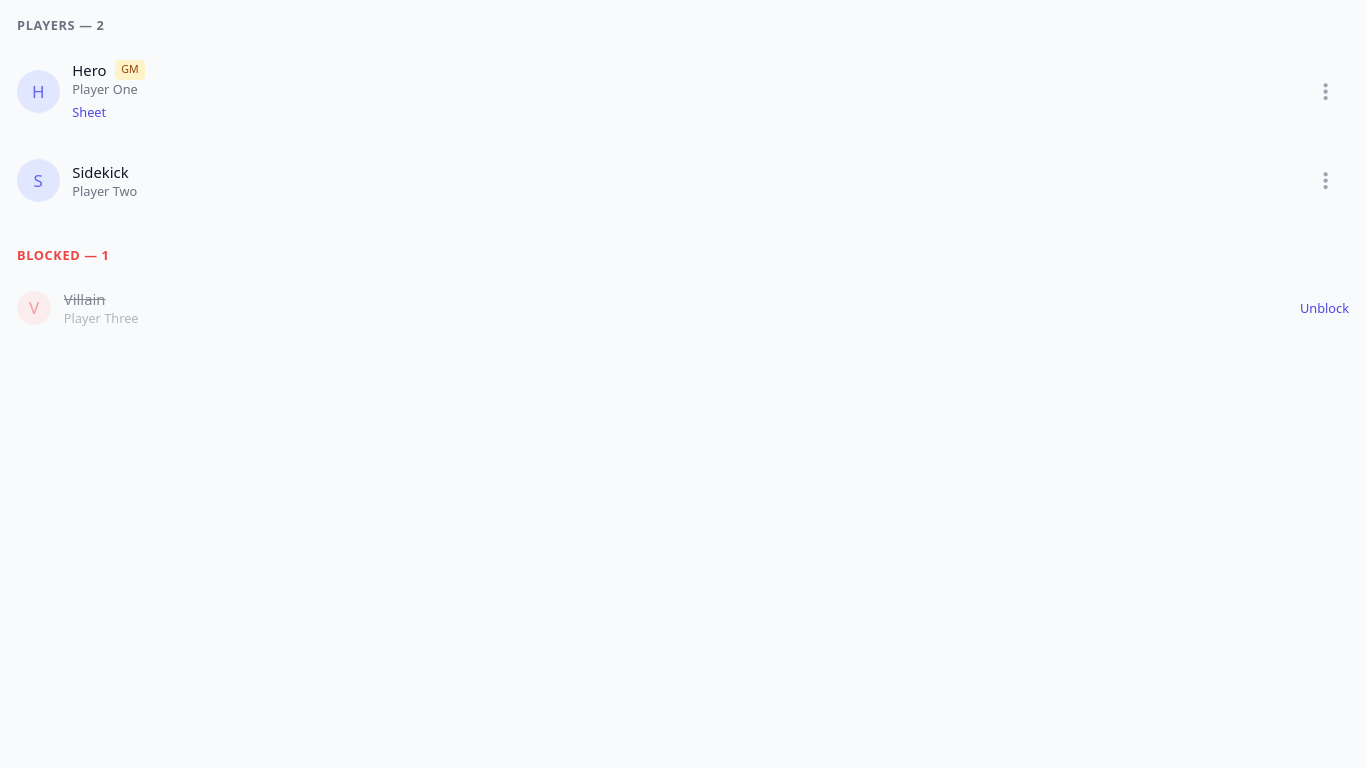
Test case: MemberList › handles block member error
Click the button with test id "menu-btn-m2" at (1326, 181), box [1302,157,1349,204]
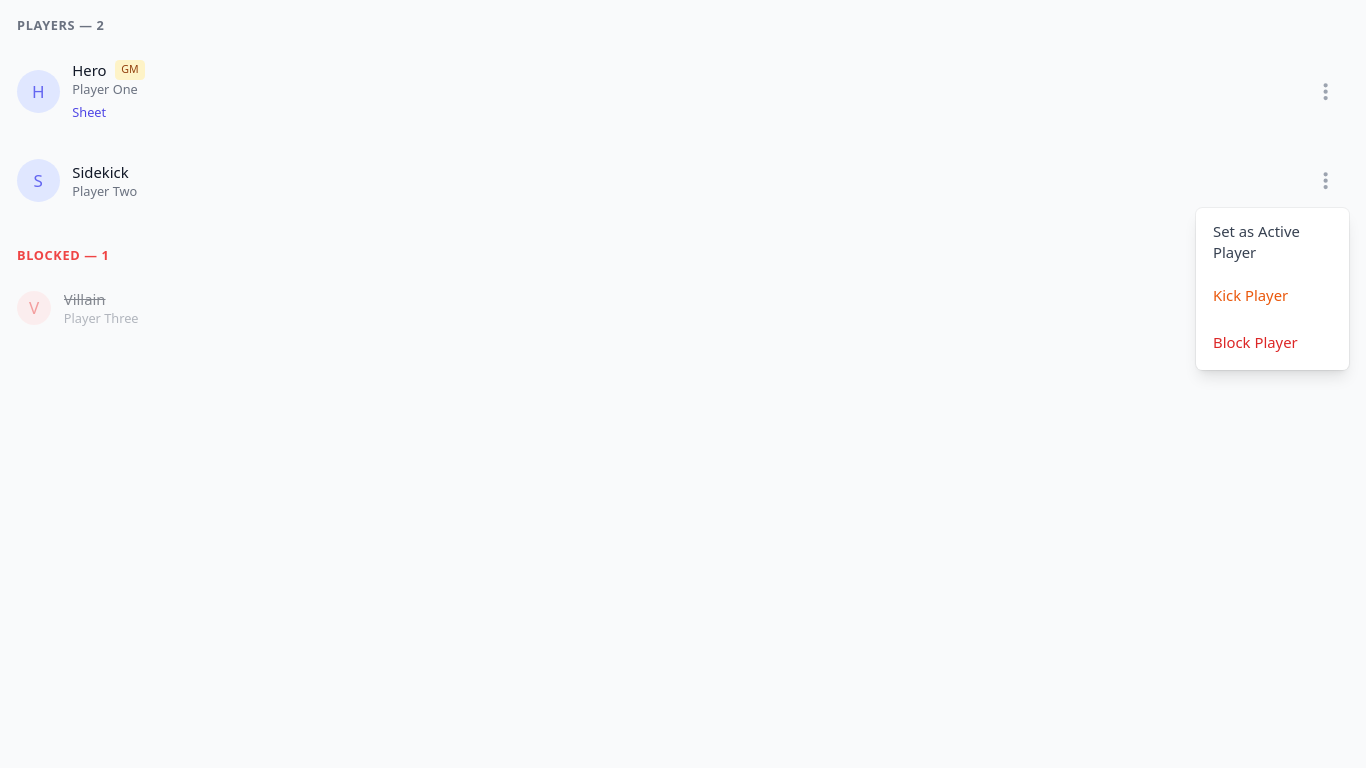
Click the menu item "Block Player" at (1272, 342), box [1196,319,1349,366]
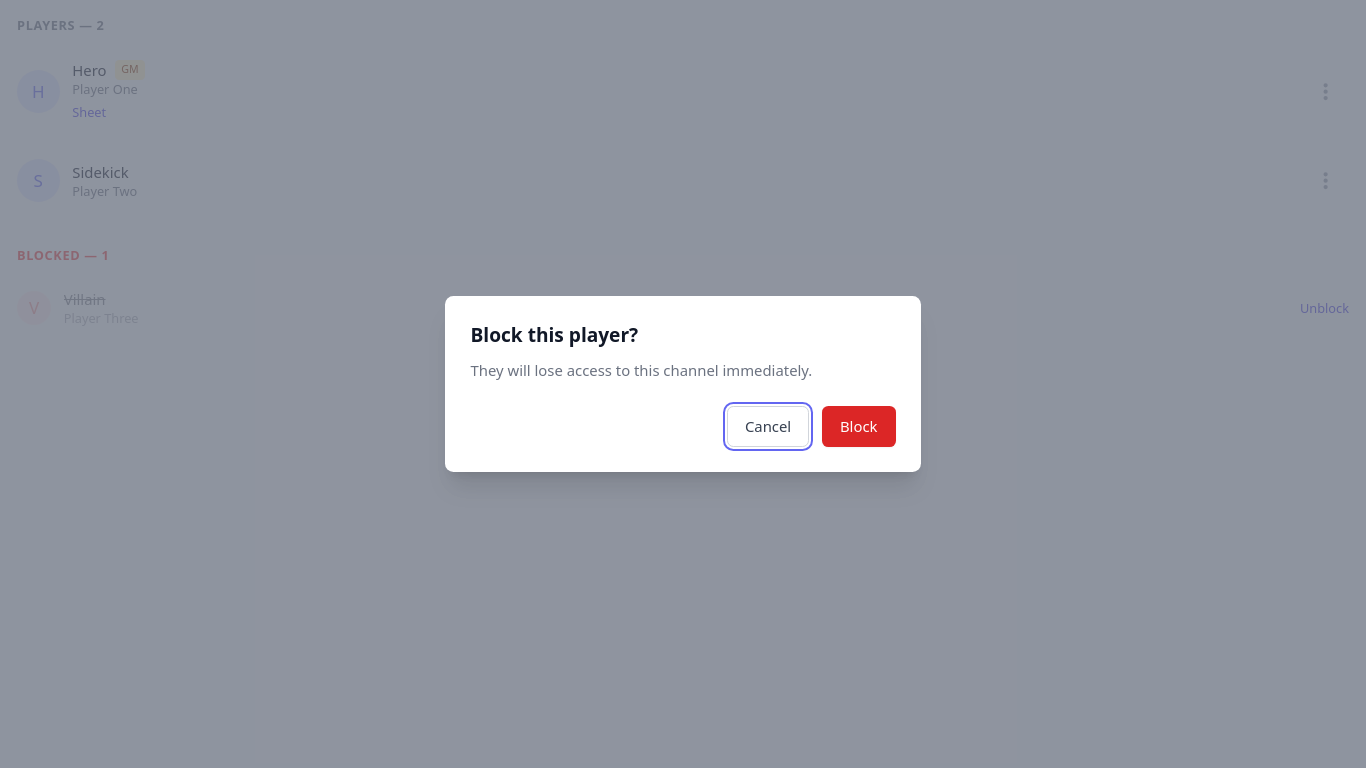
Click the button "Block" at (859, 427), box [822,406,896,447]
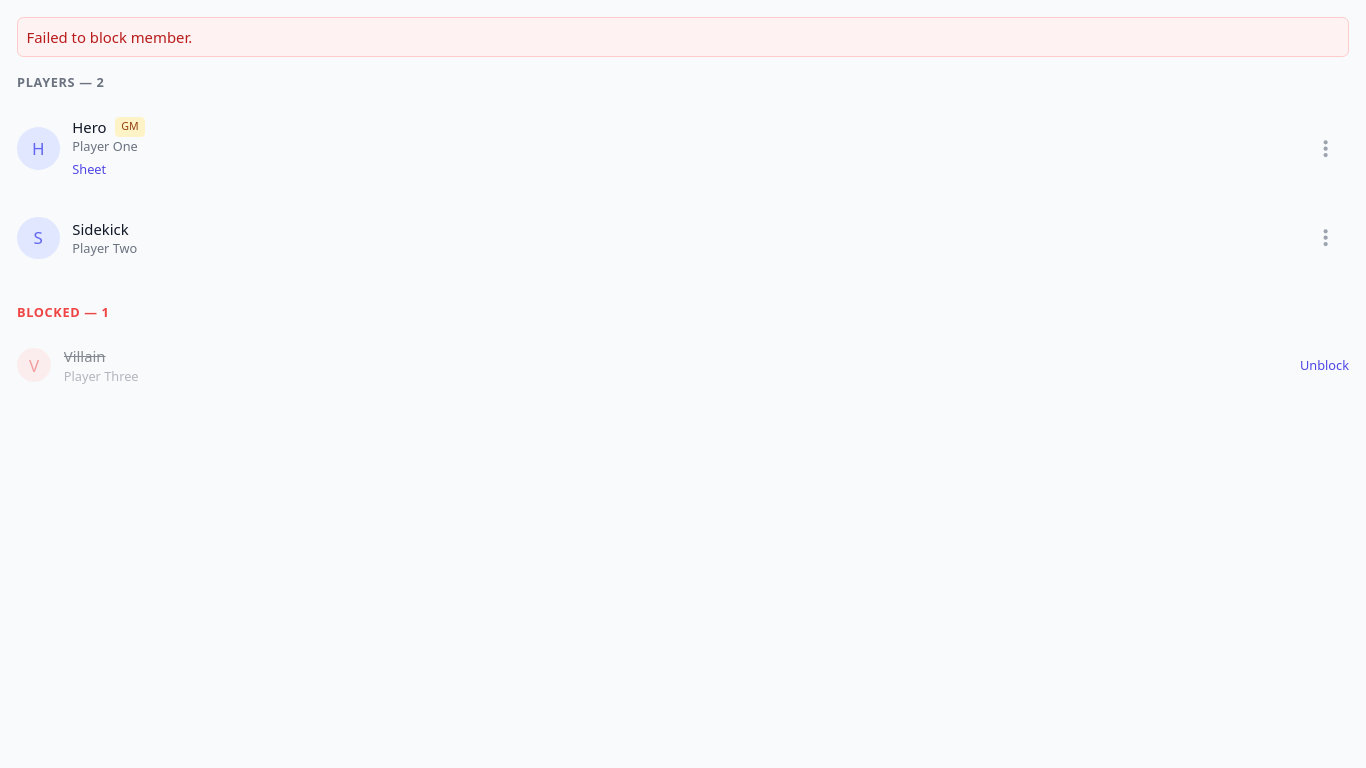
Result: the text "Failed to block member." is shown at [17,17,1349,57]
